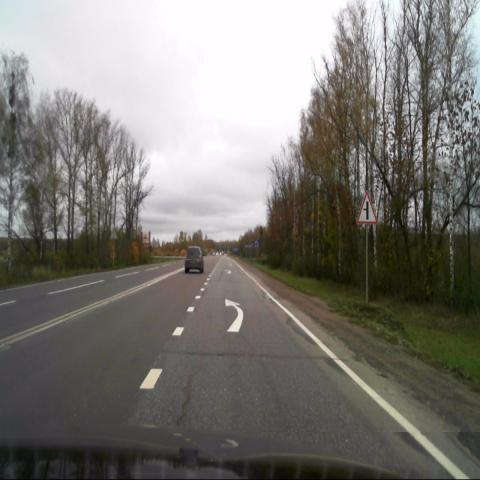2_3_3: (357, 191, 378, 223)
